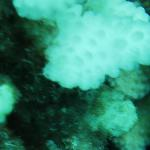dead: (11, 19, 128, 141)
